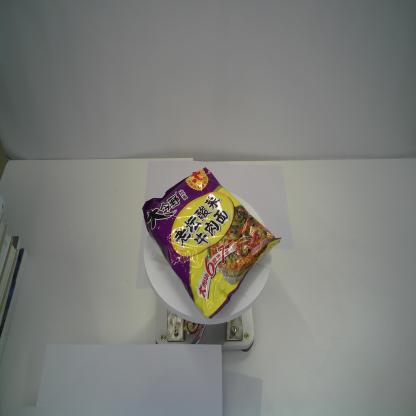Instant Noodles: (141, 166, 282, 321)
